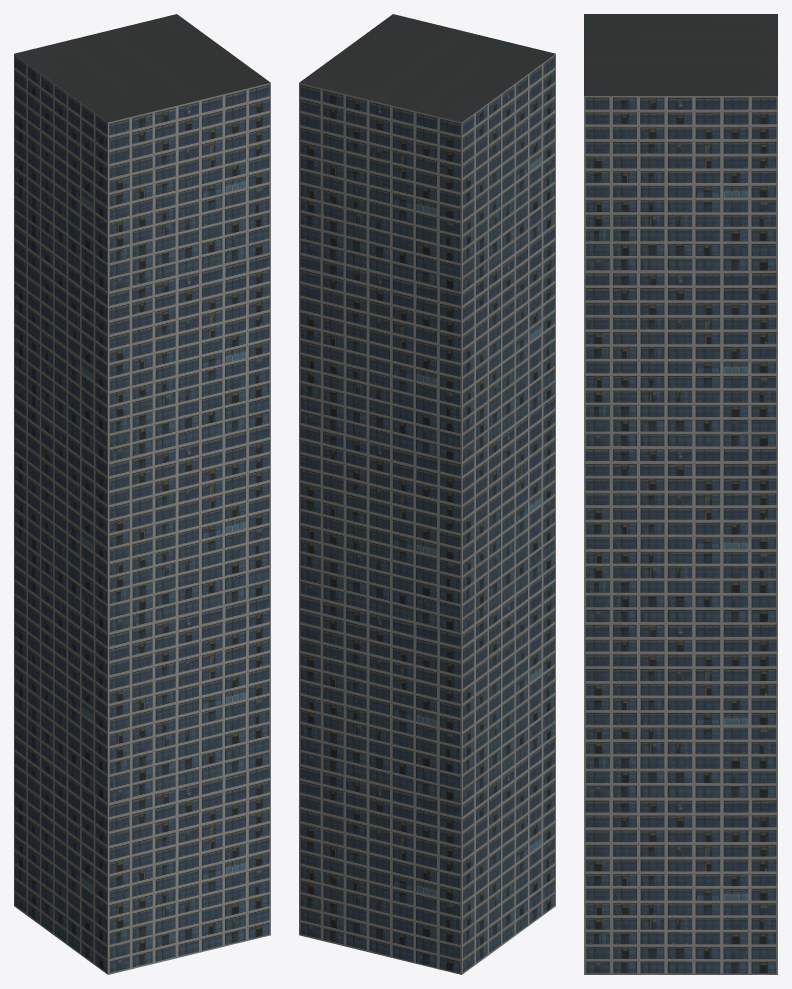
Rendered from 3x3_xLbuilding.dae.
3 views of the same model, side by side, from view 1: azimuth 30°, elevation 25°; view 2: azimuth 150°, elevation 25°; view 3: azimuth 270°, elevation 25° (orthographic). The views are drawn at different scales.
Visible parts, largest first — view 1: pCube1; view 2: pCube1; view 3: pCube1.
Boxes of the visible parts, x1,y1,x2,y2 form: pCube1: (14,14,270,974); pCube1: (299,14,555,974); pCube1: (584,14,777,974).
Size of the model in its own units: 300 by 1500 by 300.
